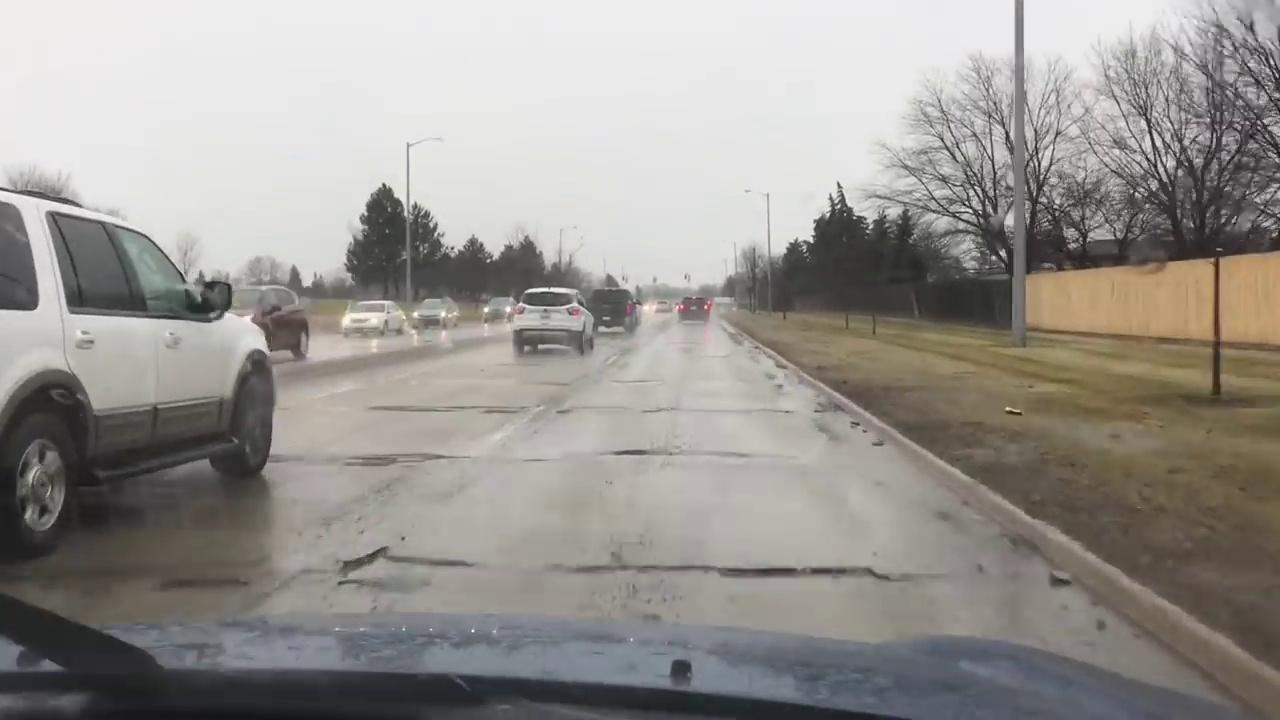pothole: (558, 563, 940, 580), (345, 548, 464, 566), (343, 453, 458, 466), (339, 546, 388, 576), (369, 406, 531, 413), (612, 449, 651, 455)
